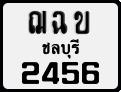letters: (41, 61, 60, 85), (61, 61, 80, 85), (29, 10, 47, 35), (81, 61, 100, 84), (21, 61, 39, 84), (52, 9, 68, 34), (74, 11, 90, 34)
province: (41, 39, 80, 60)
